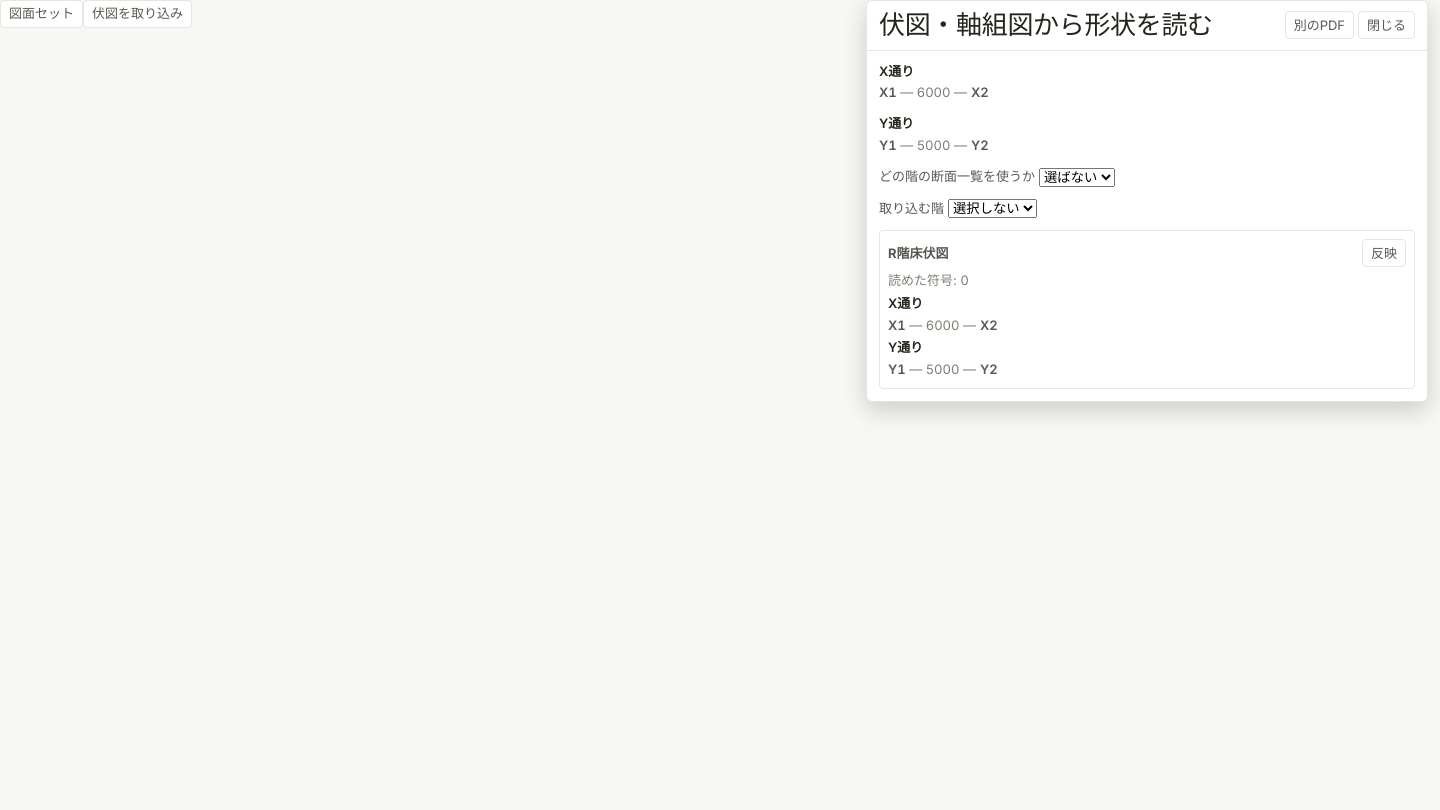
PlanImport › R階와 RF는 같은 storyKey로 Story와 断面の階를 자동 선택한다
Check: the dropdown with test id "plan-import-story" shows "選択しない", box left=948, top=199, right=1037, bottom=218
Check: the dropdown with test id "plan-import-section-story" shows "選ばない", box left=1039, top=168, right=1115, bottom=186
Click the button with test id "plan-import-apply-0" at (1384, 253), box left=1362, top=239, right=1406, bottom=267
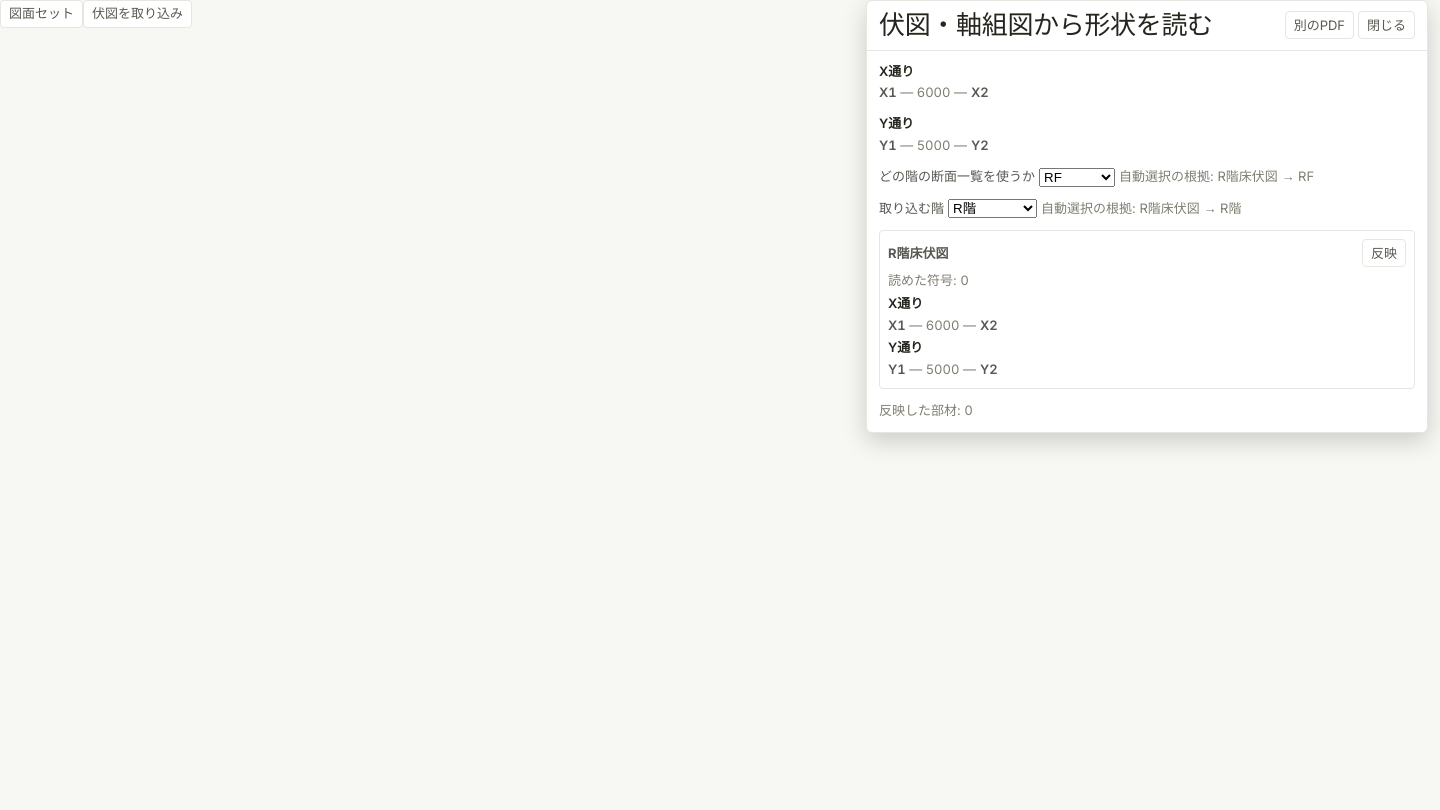
Check: the dropdown with test id "plan-import-story" shows "R階", box left=948, top=199, right=1037, bottom=218
Check: the dropdown with test id "plan-import-section-story" shows "RF", box left=1039, top=168, right=1115, bottom=186
Check: the text with test id "plan-import-story-evidence" shows "R階床伏図", box left=1041, top=200, right=1242, bottom=216
